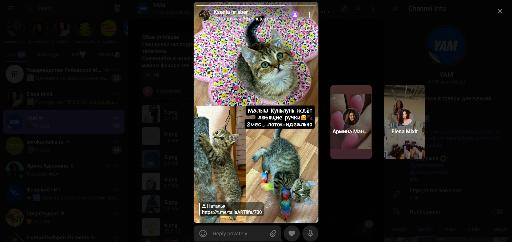telegram: (0, 2, 512, 242)
